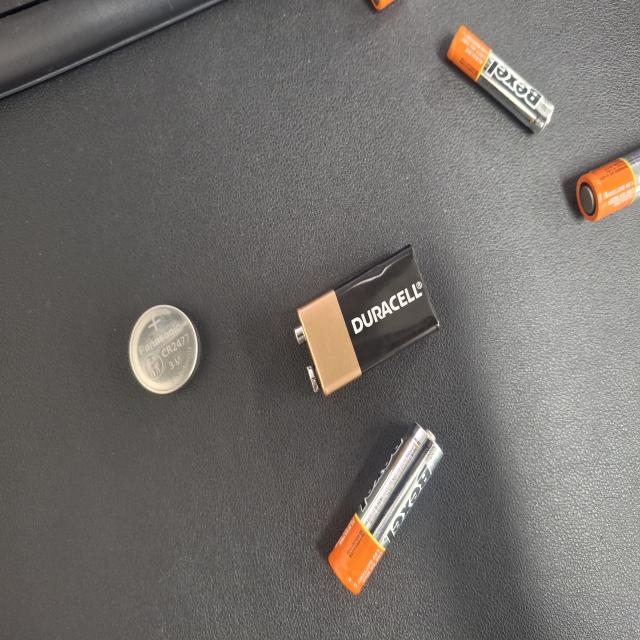9V: (182, 268, 296, 461)
AA: (318, 262, 445, 416), (106, 0, 164, 85)
AAA: (18, 115, 100, 258), (0, 317, 8, 363)
COIN: (228, 588, 296, 640)
